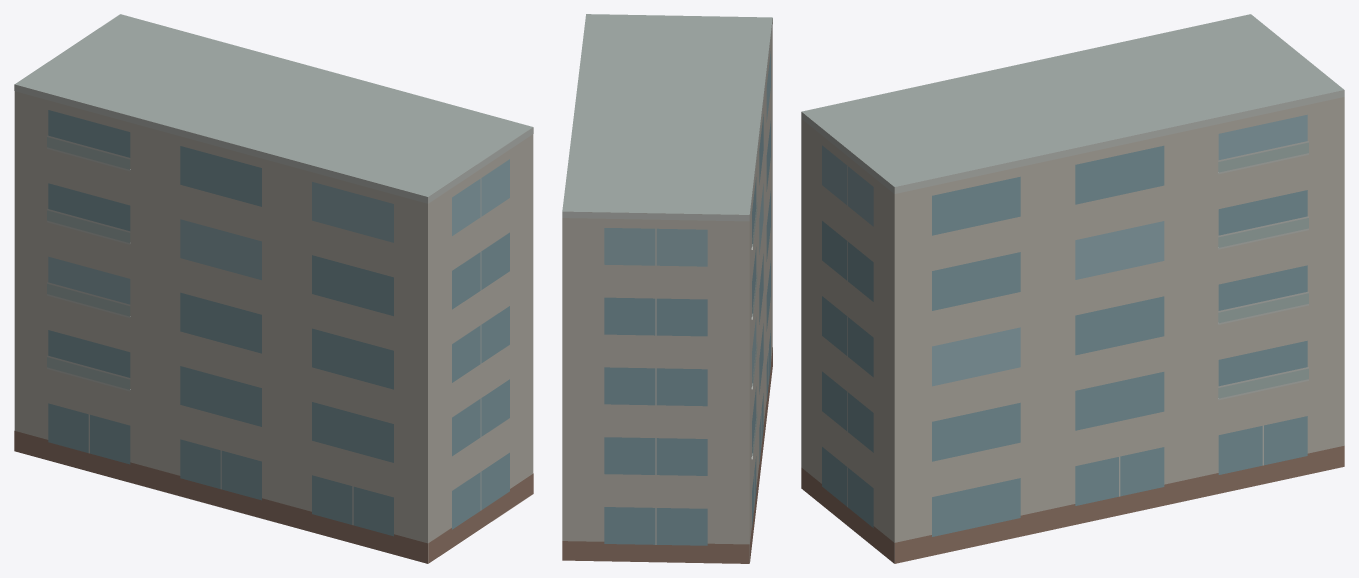
File: survey-upis-32840697.glb
3 renders of one model, left to right at view 1: azimuth 30°, elevation 25°; view 2: azimuth 150°, elevation 25°; view 3: azimuth 270°, elevation 25°, orthographic. The views are drawn at different scales.
Parts seen in each view (by area): view 1: survey-upis-32840697.tmp; view 2: survey-upis-32840697.tmp; view 3: survey-upis-32840697.tmp.
Part boxes in pixels (x1,y1,x2,y2): survey-upis-32840697.tmp: (14,14,533,563); survey-upis-32840697.tmp: (562,14,772,563); survey-upis-32840697.tmp: (801,14,1344,563).
Size of the model in its own units: 13.02 by 13.2 by 17.26.
